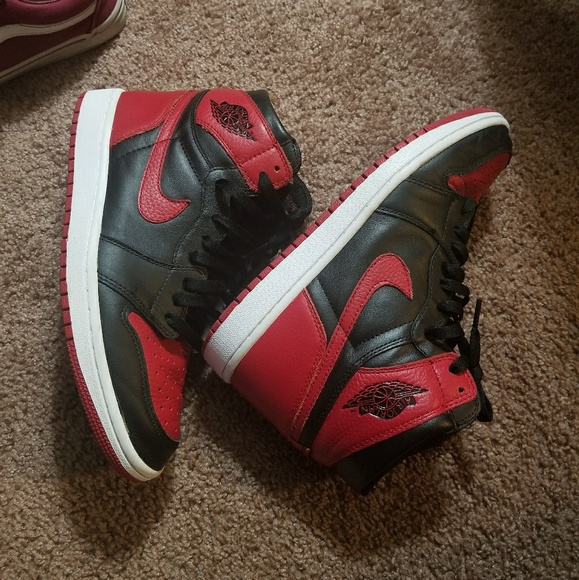Air Jordan 1 Bred: (197, 79, 515, 501), (43, 74, 311, 497)
